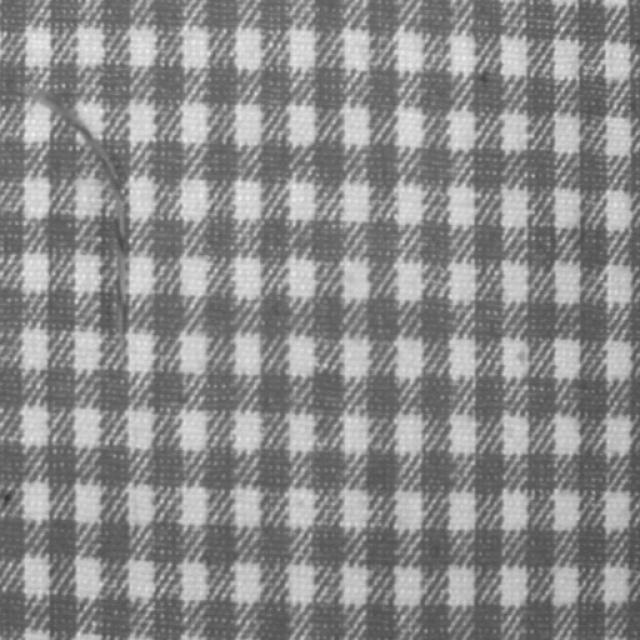Foreign-Body-Defect: (26, 90, 129, 259)
